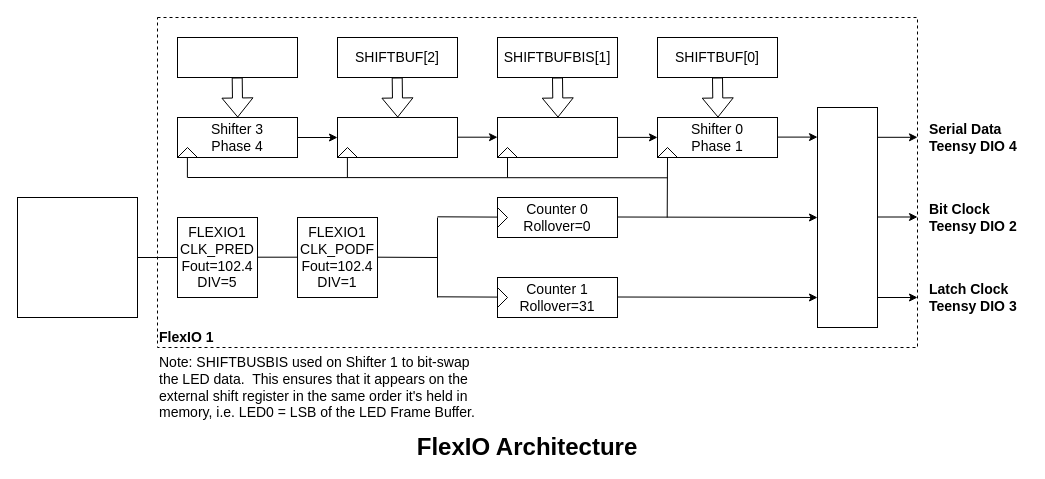
Image size: 1045x479. Some labels were removed from this diagram. Here are the shapes that lost their labels. From the top down, the centre of each, then its label:
At (237,57): "SHIFTBUF[3]".
At (397,137): "Shifter 2 Phase 3".
At (557,137): "Shifter 1 Phase 2".
At (847,217): "Pin Mux".
At (77,257): "PLL 5 Fout=512 MHz DIV=42 NUM=8 DEN=12 VIDEO_DIV=2".
